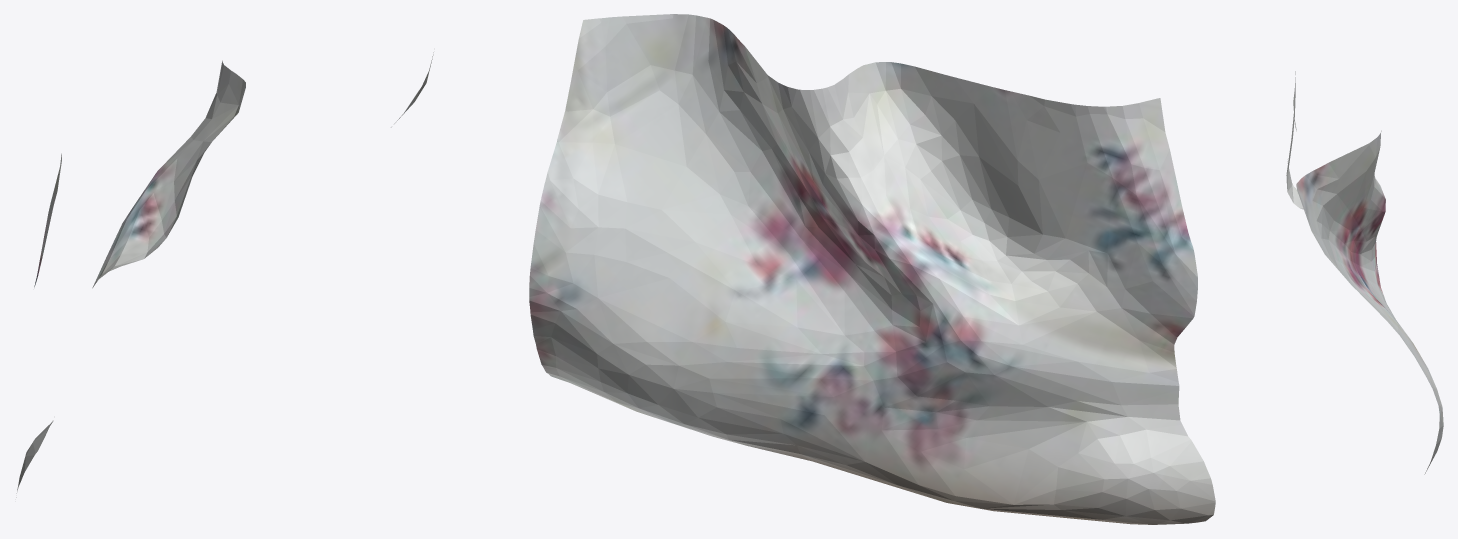
3 views of the same model, side by side, from view 1: azimuth 30°, elevation 25°; view 2: azimuth 150°, elevation 25°; view 3: azimuth 270°, elevation 25° (orthographic). The views are drawn at different scales.
Size of the model in its own units: 101 by 71.2 by 36.85.
Materials: 1 (1 with a texture image).
